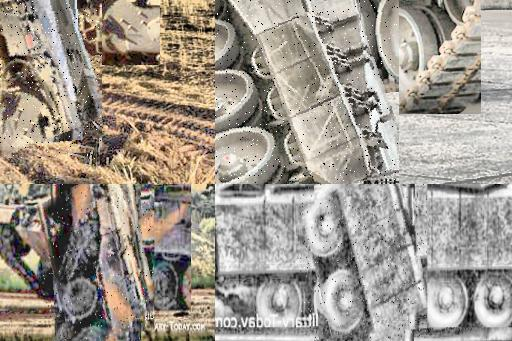tanks: (216, 1, 399, 185), (302, 185, 428, 339), (44, 185, 155, 340), (1, 1, 102, 158)
